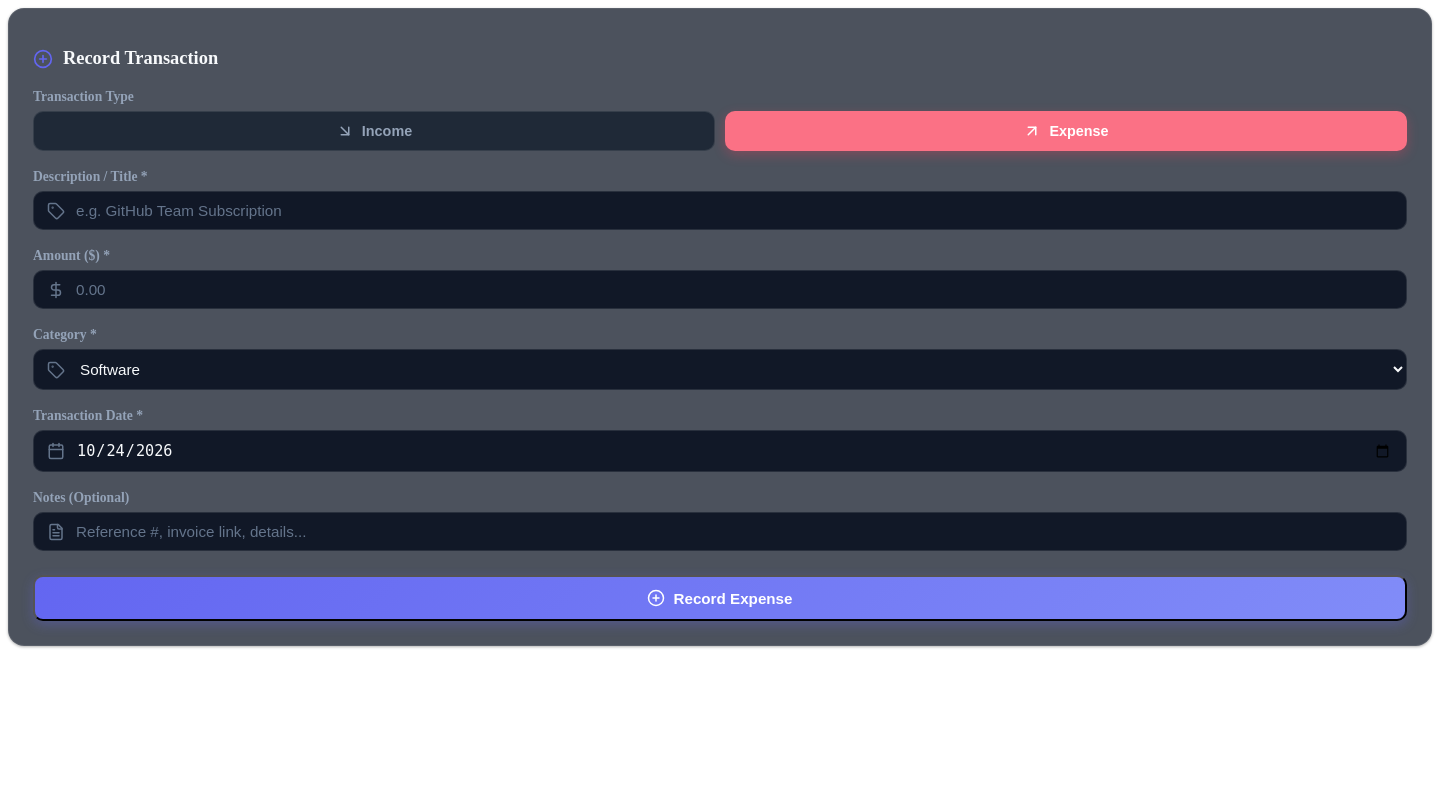
TransactionForm Component › validates required fields and shows inline errors when submitted blank
The image size is (1440, 810).
Click the button with test id "submit-transaction-btn" at (720, 598), box [33,575,1407,621]
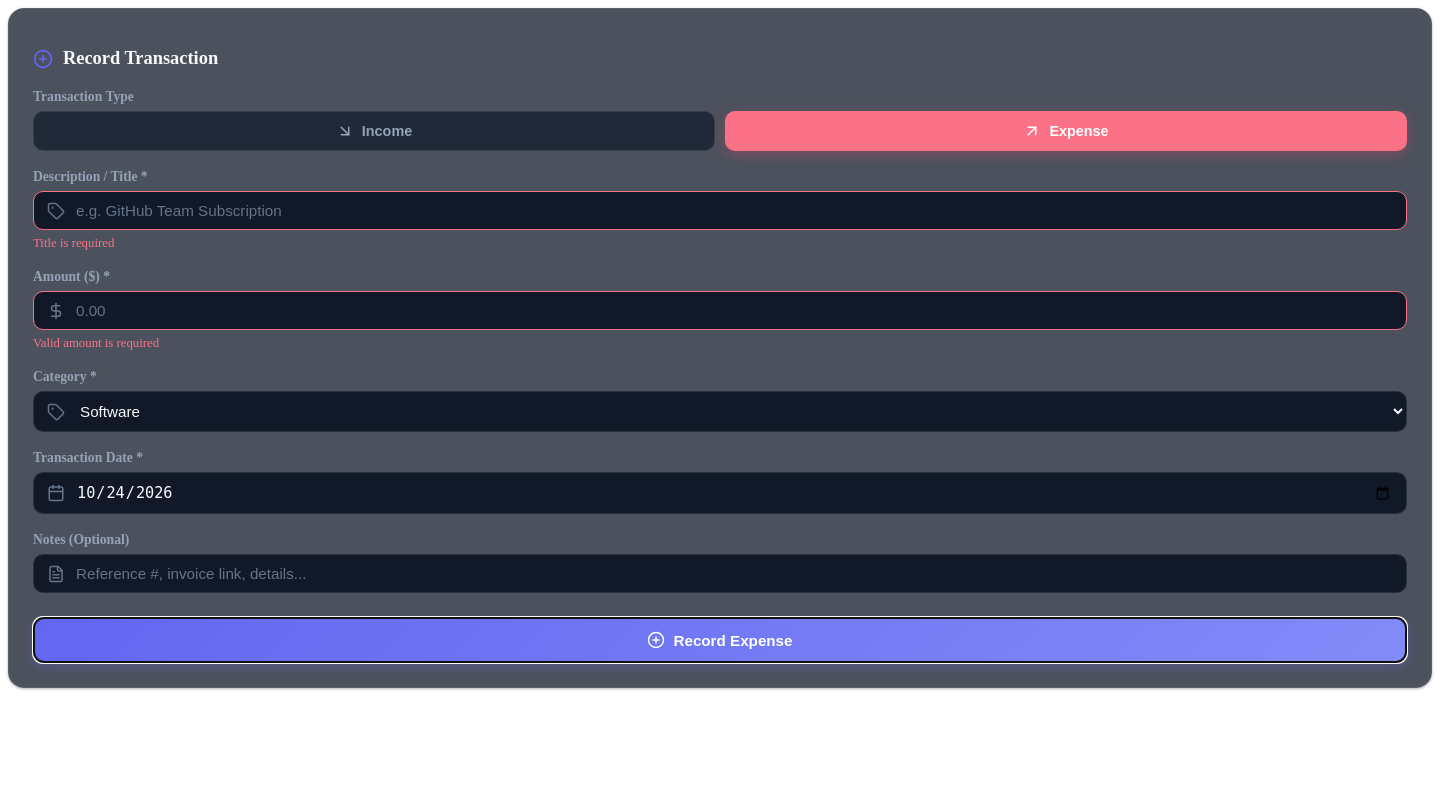
Expected: the message with test id "title-error" reads "Title is required", [33,236,114,250]
Expected: the message with test id "amount-error" reads "Valid amount is required", [33,336,159,350]
